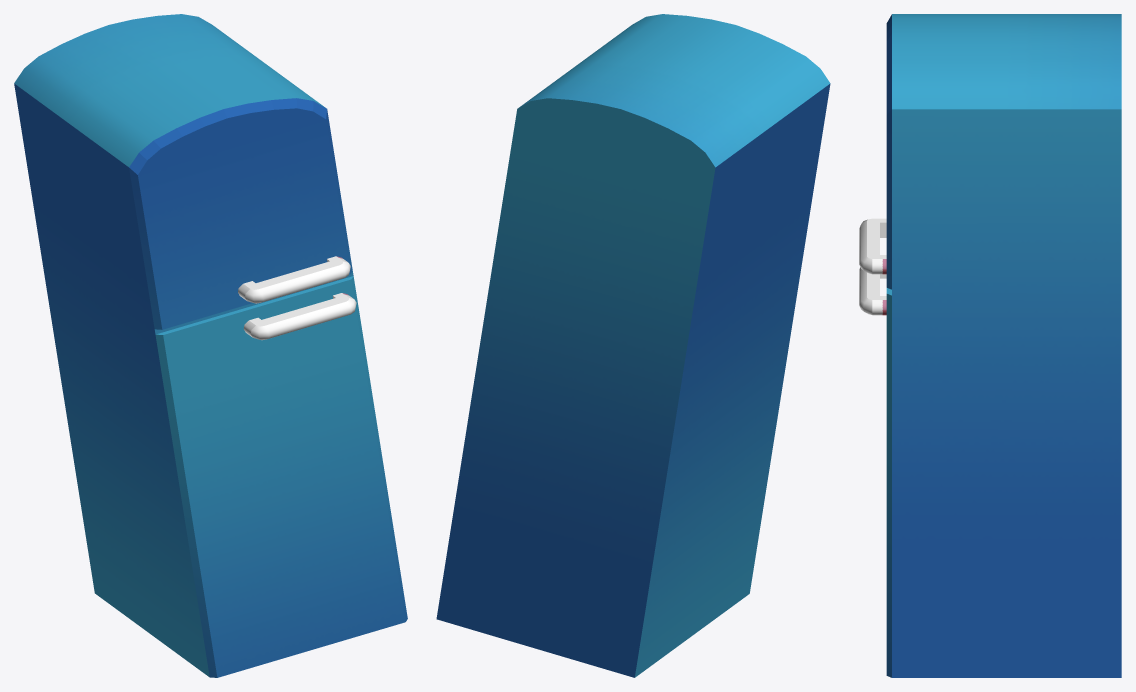
The model's file is fridge.FBX.
The picture shows the model from 3 angles, left to right: view 1: azimuth 30°, elevation 25°; view 2: azimuth 150°, elevation 25°; view 3: azimuth 270°, elevation 25°; orthographic projection.
Visible parts, largest first — view 1: fridge; view 2: fridge; view 3: fridge.
Boxes of the visible parts, x1,y1,x2,y2 form: fridge: (14, 14, 407, 677); fridge: (436, 14, 830, 677); fridge: (859, 14, 1121, 677).
Size of the model in its own units: 123 by 238 by 100.
1 material, 1 textured.
